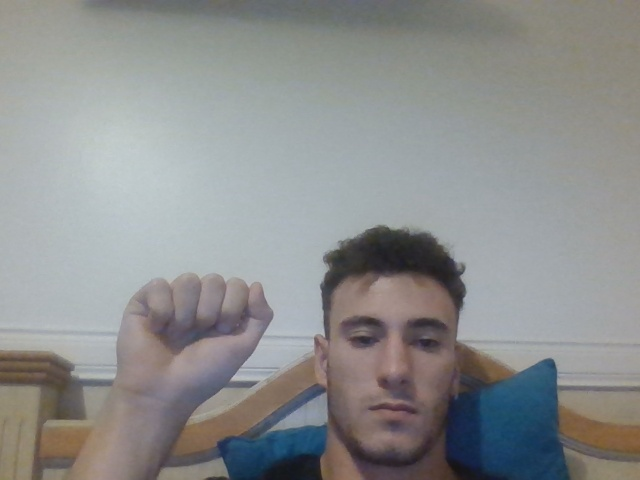Stop: (115, 272, 275, 401)
